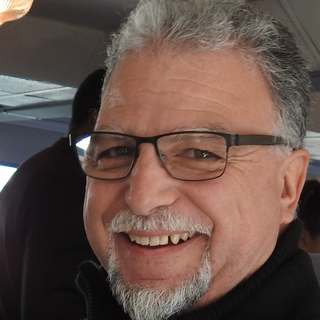eye: (165, 141, 228, 173), (90, 139, 142, 168)
